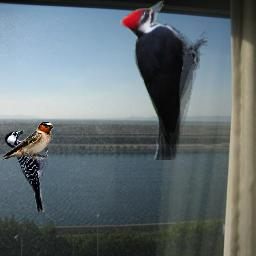Swallow: (2, 121, 54, 160)
Woodpecker: (118, 0, 208, 160), (4, 128, 48, 212)
